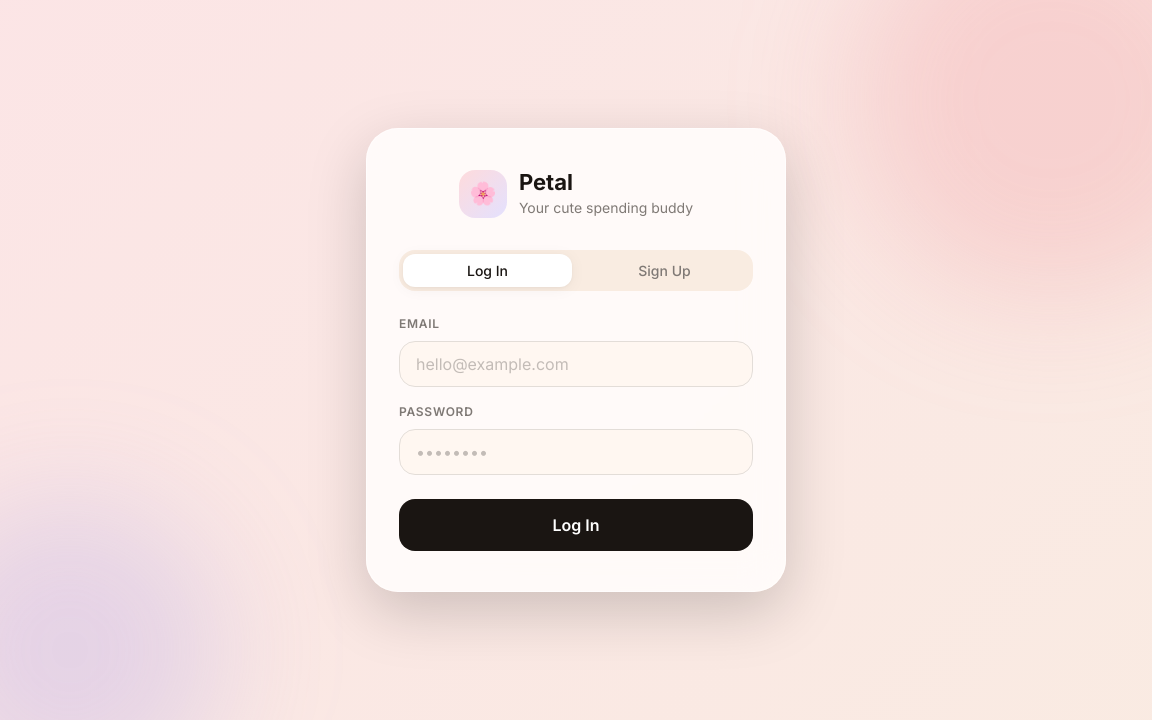
Scenario: AuthPage › clears error when switching modes
Type "test@example.com" into the field labelled "Email" at {"x": 576, "y": 364}, box [399,341,753,387]
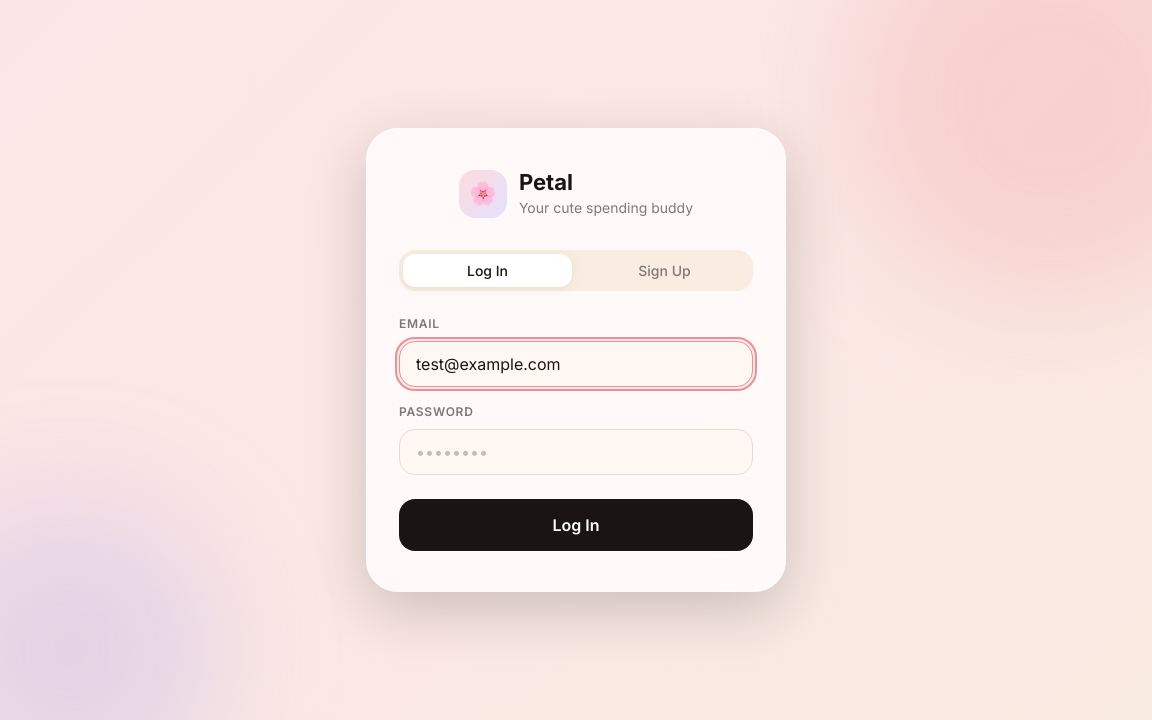
Type "wrongpass" into the password field labelled "Password" at {"x": 576, "y": 452}, box [399,429,753,475]
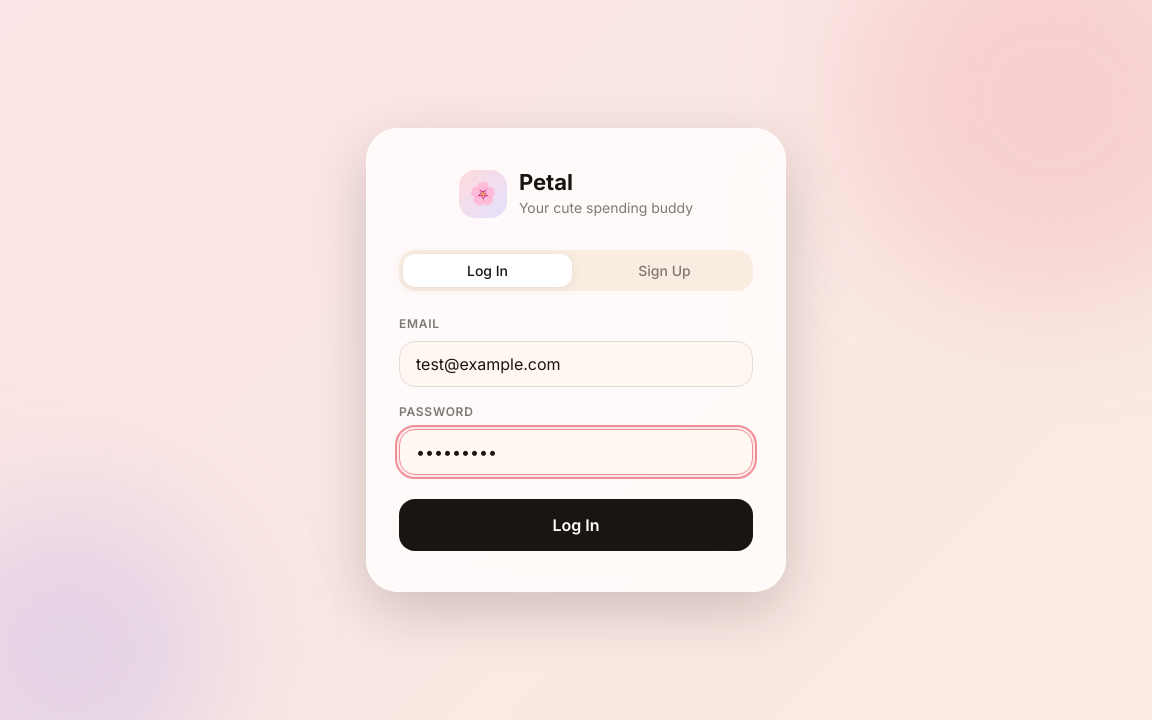
Click the button "Log In" at {"x": 576, "y": 525}, box [399,499,753,551]
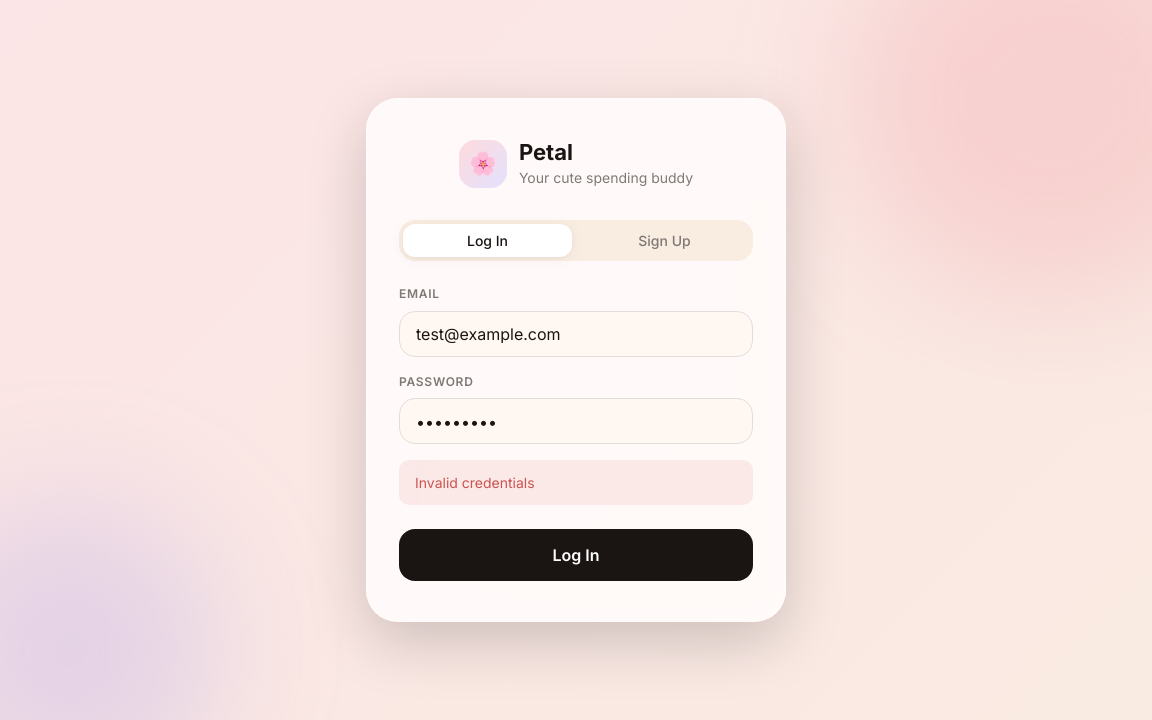
expect the message "Invalid credentials" is shown: met, box [399,460,753,505]
Click the tab "Sign Up" at {"x": 664, "y": 240}, box [580,223,749,256]
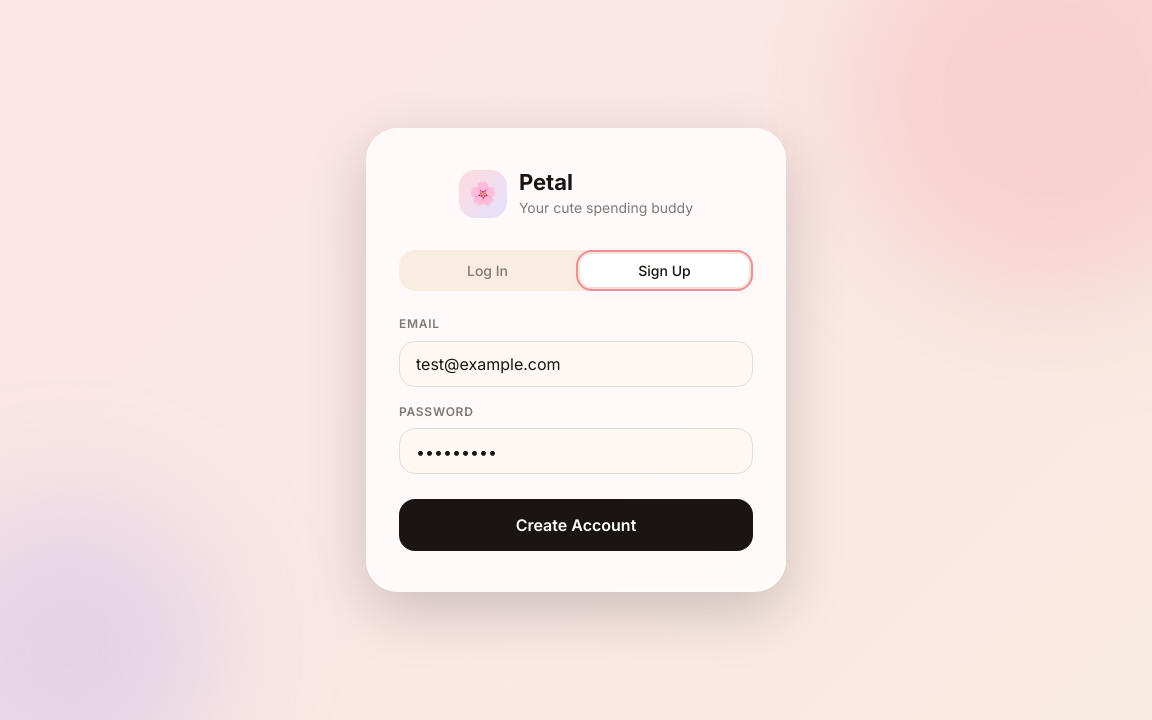
expect the message "Invalid credentials" is gone: met
